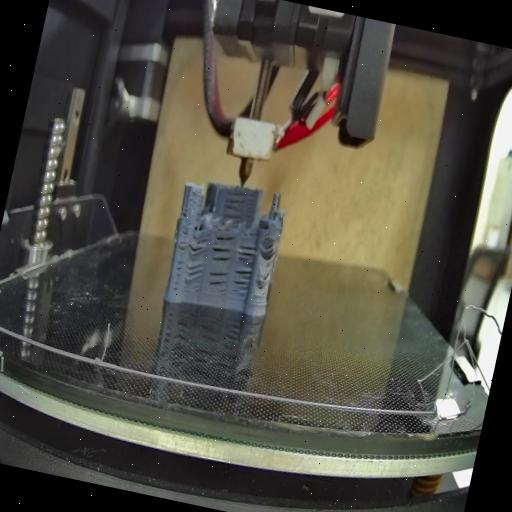cracks: (168, 230, 190, 292), (220, 186, 250, 224), (208, 231, 236, 267), (230, 266, 254, 296), (206, 267, 230, 296), (188, 234, 210, 260), (234, 240, 258, 263), (182, 261, 204, 286), (260, 241, 278, 260), (259, 265, 273, 285), (179, 205, 191, 222)
